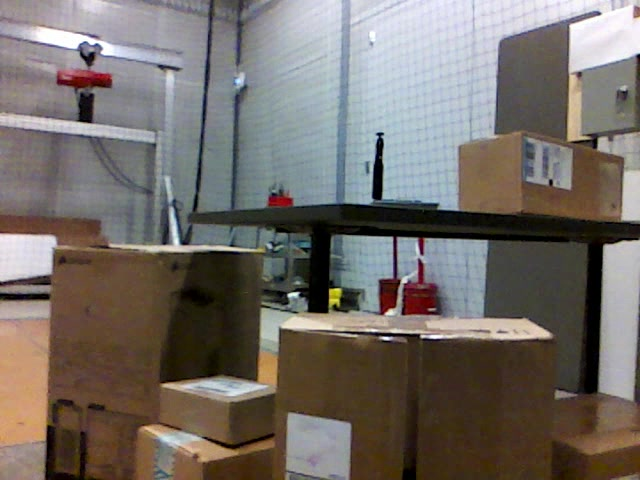box: (47, 243, 261, 478), (278, 313, 556, 480), (460, 132, 622, 219), (162, 375, 275, 445), (136, 425, 271, 480), (555, 394, 640, 476)
